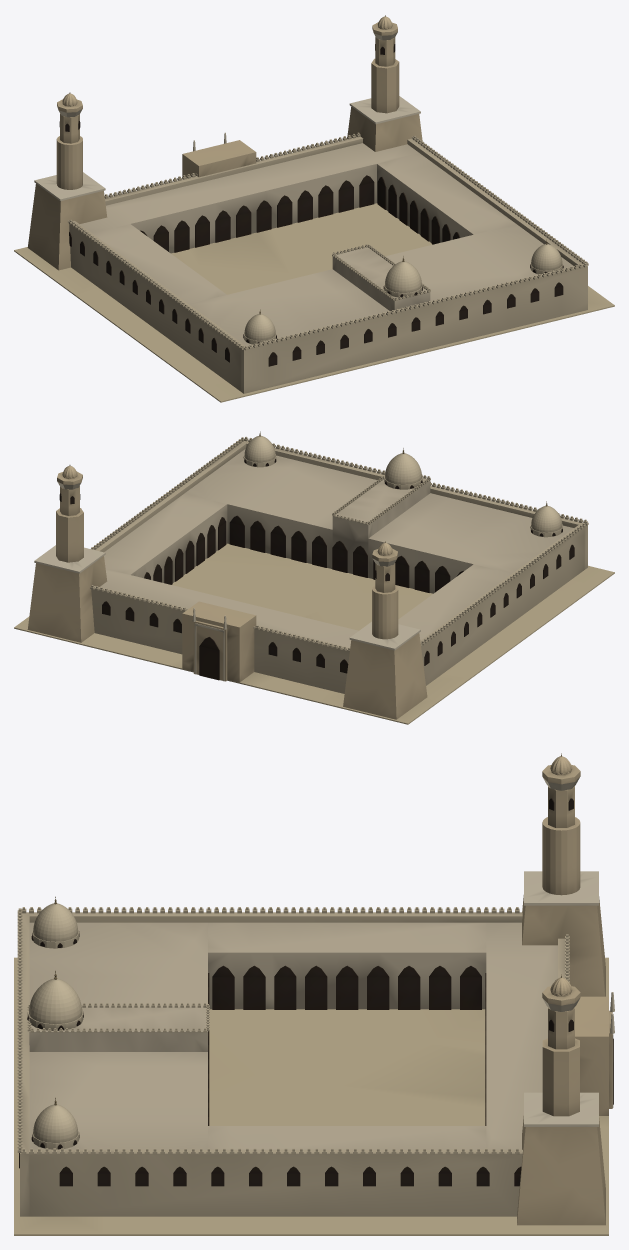
The model's file is al-hakim.glb.
The picture shows the model from 3 angles, top to bottom: view 1: azimuth 30°, elevation 25°; view 2: azimuth 150°, elevation 25°; view 3: azimuth 270°, elevation 25°; orthographic projection. The views are drawn at different scales.
Visible parts, largest first — view 1: p0_walls, p1_arcades, p3_minarets, p2_portal and domes; view 2: p0_walls, p1_arcades, p3_minarets, p2_portal and domes; view 3: p0_walls, p1_arcades, p3_minarets, p2_portal and domes.
Part boxes in pixels (bbox=[...]): p0_walls: bbox=[14, 132, 614, 402]; p1_arcades: bbox=[80, 143, 573, 345]; p3_minarets: bbox=[27, 15, 422, 270]; p2_portal and domes: bbox=[182, 132, 563, 344]; p0_walls: bbox=[14, 436, 614, 724]; p1_arcades: bbox=[99, 449, 573, 647]; p3_minarets: bbox=[27, 465, 427, 719]; p2_portal and domes: bbox=[182, 431, 562, 682]; p0_walls: bbox=[14, 907, 608, 1235]; p1_arcades: bbox=[29, 922, 557, 1149]; p3_minarets: bbox=[517, 753, 605, 1225]; p2_portal and domes: bbox=[27, 896, 614, 1149].
Size of the model in its own units: 110 by 43.36 by 101.
